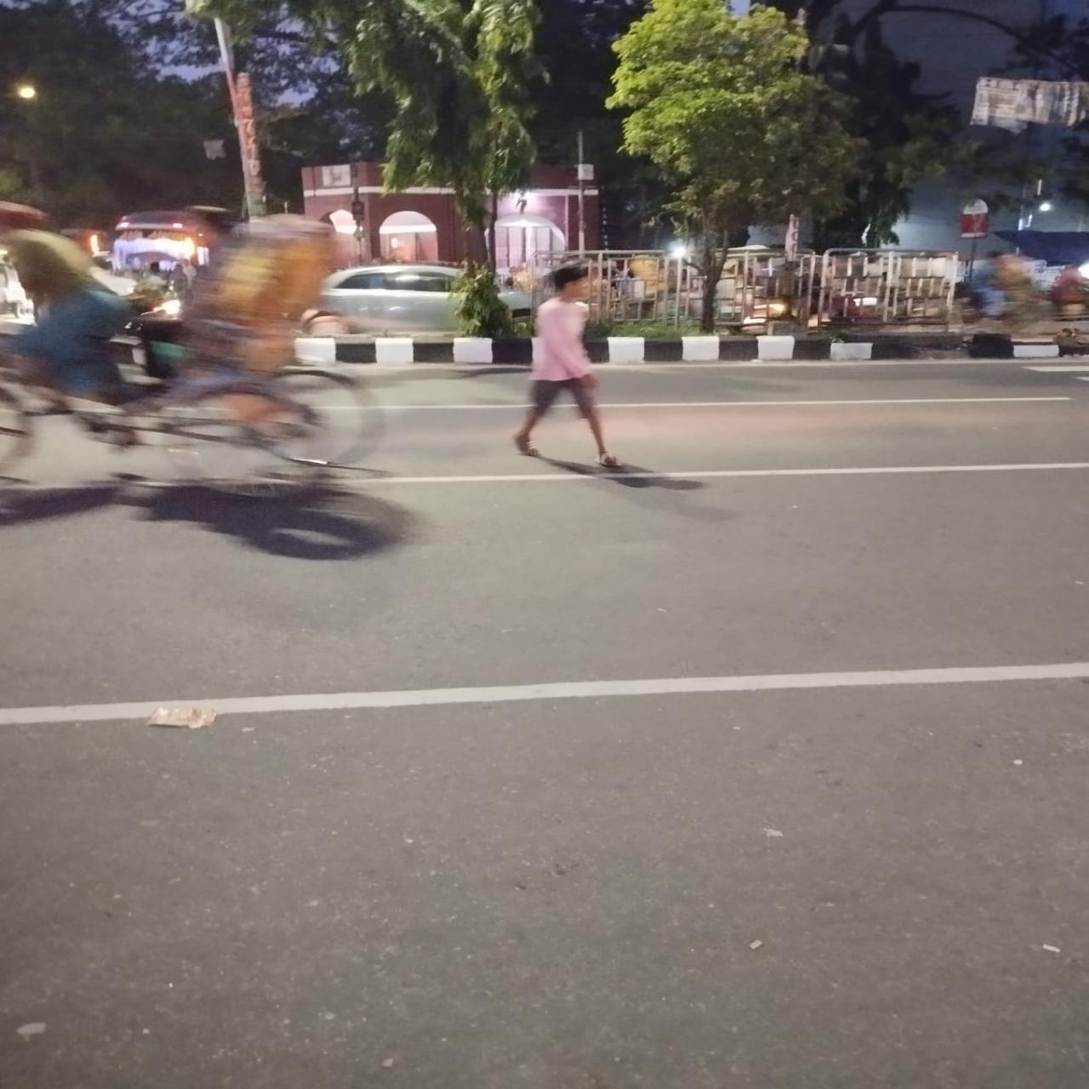person: (509, 262, 630, 483)
